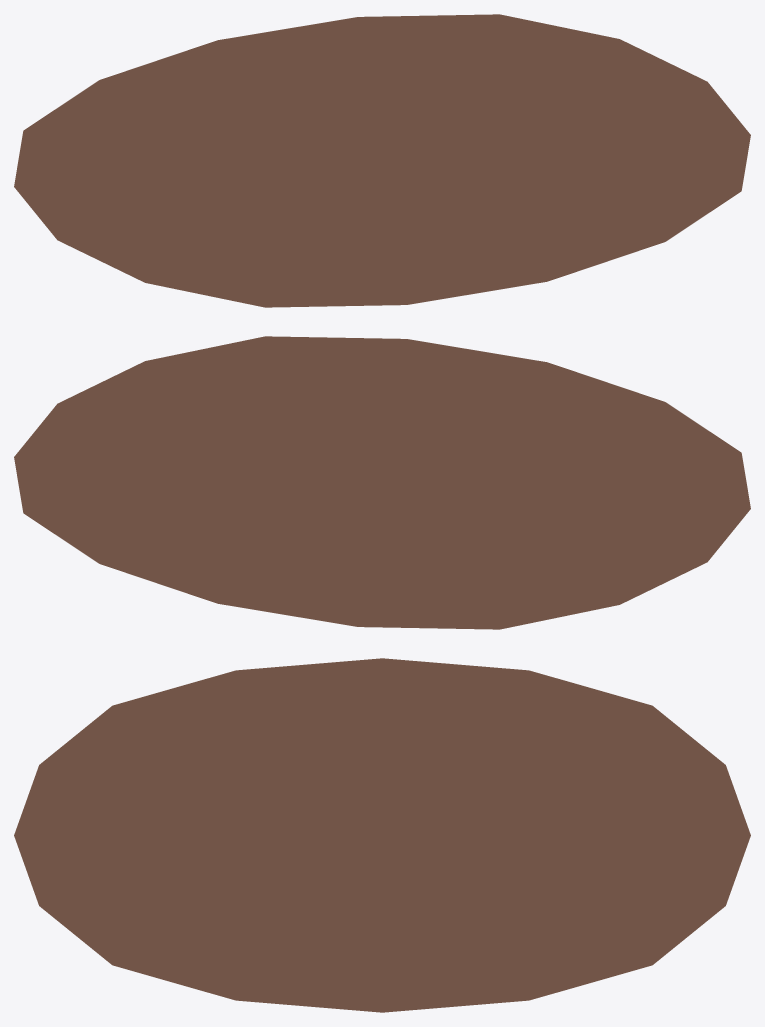
The model's file is Alfombra.fbx.
The picture shows the model from 3 angles, top to bottom: view 1: azimuth 30°, elevation 25°; view 2: azimuth 150°, elevation 25°; view 3: azimuth 270°, elevation 25°; orthographic projection. The views are drawn at different scales.
Parts seen in each view (by area): view 1: Plane; view 2: Plane; view 3: Plane.
Part boxes in pixels (x1,y1,x2,y2): Plane: (14,14,750,307); Plane: (14,336,750,629); Plane: (14,658,750,1012).
Bounding box in the file's own units: 773 × 9.54e-07 × 679.
